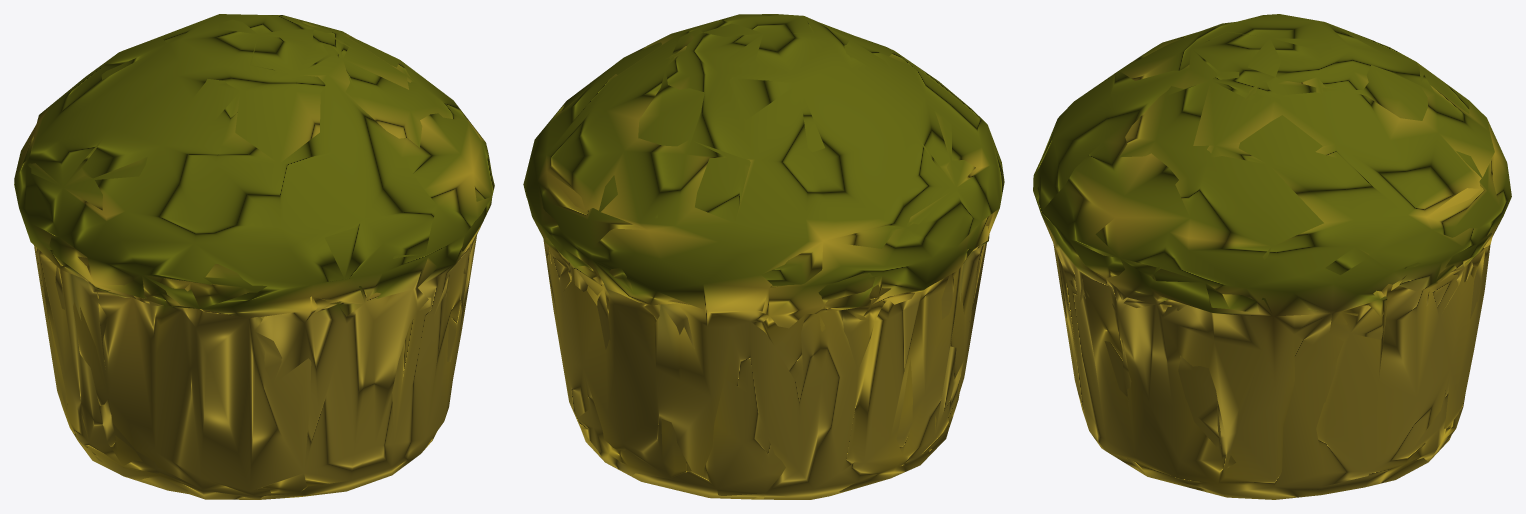
File: gen3d-muffin-lod0.glb
The picture shows the model from 3 angles, left to right: view 1: azimuth 30°, elevation 25°; view 2: azimuth 150°, elevation 25°; view 3: azimuth 270°, elevation 25°; orthographic projection.
Visible parts, largest first — view 1: part_0; view 2: part_0; view 3: part_0.
Part boxes in pixels (box(x1,y1,x2,y2)): part_0: box(14, 14, 494, 499); part_0: box(523, 14, 1004, 499); part_0: box(1033, 14, 1511, 499).
Size of the model in its own units: 1.11 by 0.9953 by 1.11.
